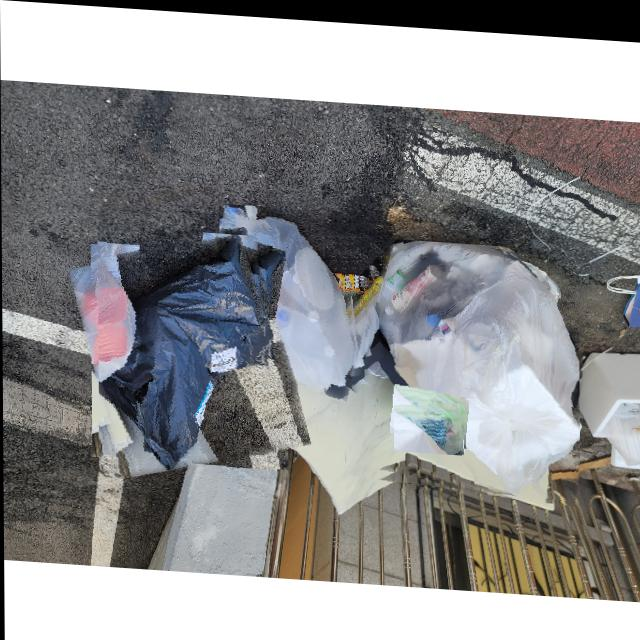general_trashbag: (393, 396, 461, 447)
other_trashbag: (365, 235, 579, 488), (99, 232, 268, 466), (219, 202, 355, 386)
